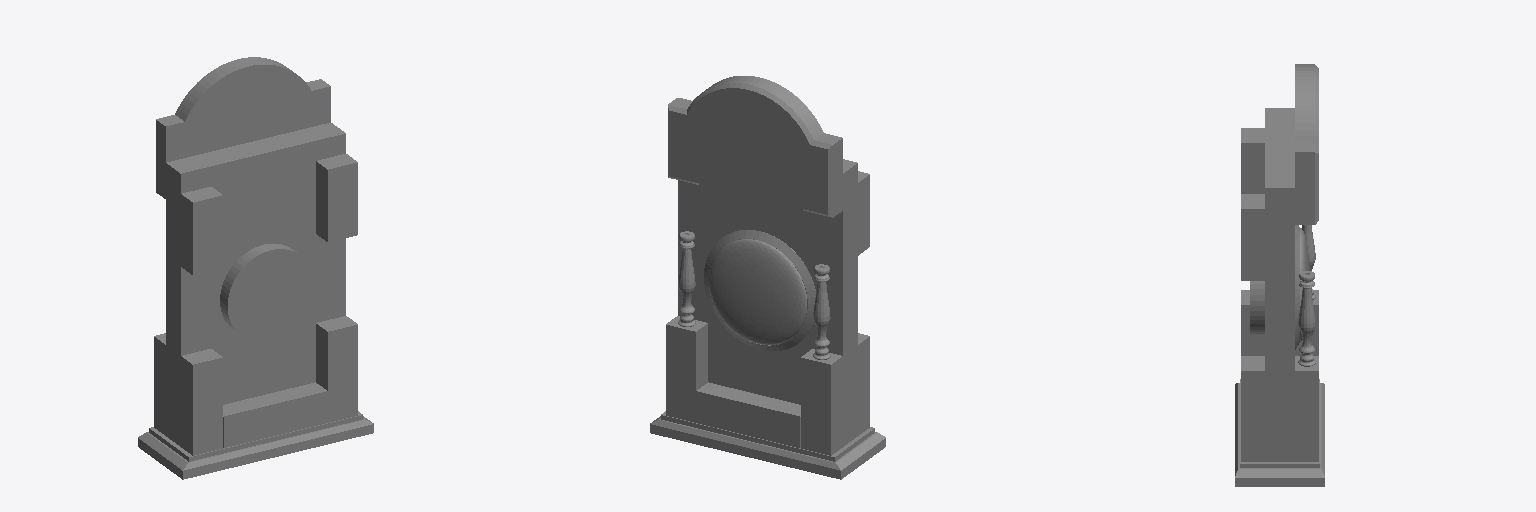
The model's file is clock.obj.
The picture shows the model from 3 angles: view 1: azimuth 30°, elevation 25°; view 2: azimuth 150°, elevation 25°; view 3: azimuth 270°, elevation 25°; orthographic projection.
Visible parts, largest first — view 1: Rectangle0, Arc02, Circle04, Rectangl10, Rectangle6, Rectangle7, Rectangle8, Rectangle9, Rectangle1, Rectangle2, Rectangle3, Rectangle4; view 2: Rectangle0, Arc02, GeoSphere0, Rectangl11, Rectangle4, Rectangle5, Donut02, Rectangle1, Rectangle2, Line01, Line09, Rectangle3 (+2 smaller); view 3: Rectangle0, Arc02, Rectangle7, Rectangle5, Rectangle9, Rectangle2, Rectangle8, Line09, Rectangle6, Circle04, Rectangle1, Rectangle3 (+1 smaller).
Part boxes in pixels (x1,y1,x2,y2): Rectangle0: (166,123,345,446); Arc02: (156,57,330,198); Circle04: (220,243,314,342); Rectangl10: (223,382,327,447); Rectangle6: (181,349,222,455); Rectangle7: (316,316,357,422); Rectangle8: (181,187,222,274); Rectangle9: (316,154,357,241); Rectangle1: (138,424,373,479); Rectangle2: (138,416,373,470); Rectangle3: (149,411,362,461); Rectangle4: (154,333,165,435); Rectangle0: (678,159,857,446); Arc02: (668,76,842,217); GeoSphere0: (709,239,806,344); Rectangl11: (696,382,800,447); Rectangle4: (801,349,842,455); Rectangle5: (666,316,707,422); Donut02: (704,230,815,350); Rectangle1: (650,424,885,479); Rectangle2: (650,416,885,470); Line01: (813,264,830,359); Line09: (678,231,695,326); Rectangle3: (661,411,874,461); Rectangle0: (1265,108,1294,461); Arc02: (1295,64,1318,224); Rectangle7: (1241,356,1264,461); Rectangle5: (1295,356,1318,461); Rectangle9: (1241,194,1264,280); Rectangle2: (1235,383,1324,477); Rectangle8: (1241,128,1264,193); Line09: (1298,271,1315,366); Rectangle6: (1241,290,1264,355); Circle04: (1250,281,1264,334); Rectangle1: (1235,478,1324,486); Rectangle3: (1240,379,1319,467).
Size of the model in its own units: 745 by 1367 by 305.